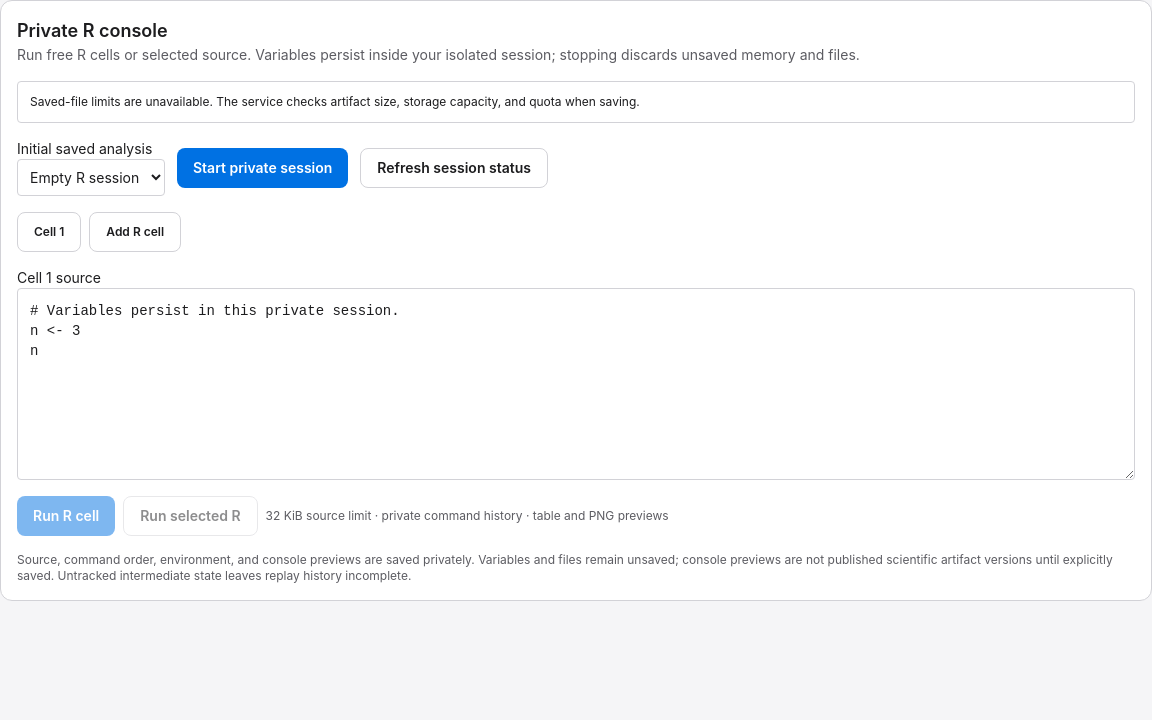
Test: shows pending server saves and clears their progress after changing private workspace scope
The width and height of the screenshot is (1152, 720).
Click the button "Start private session": (263, 168) [177,148,348,188]
(page scrolled)
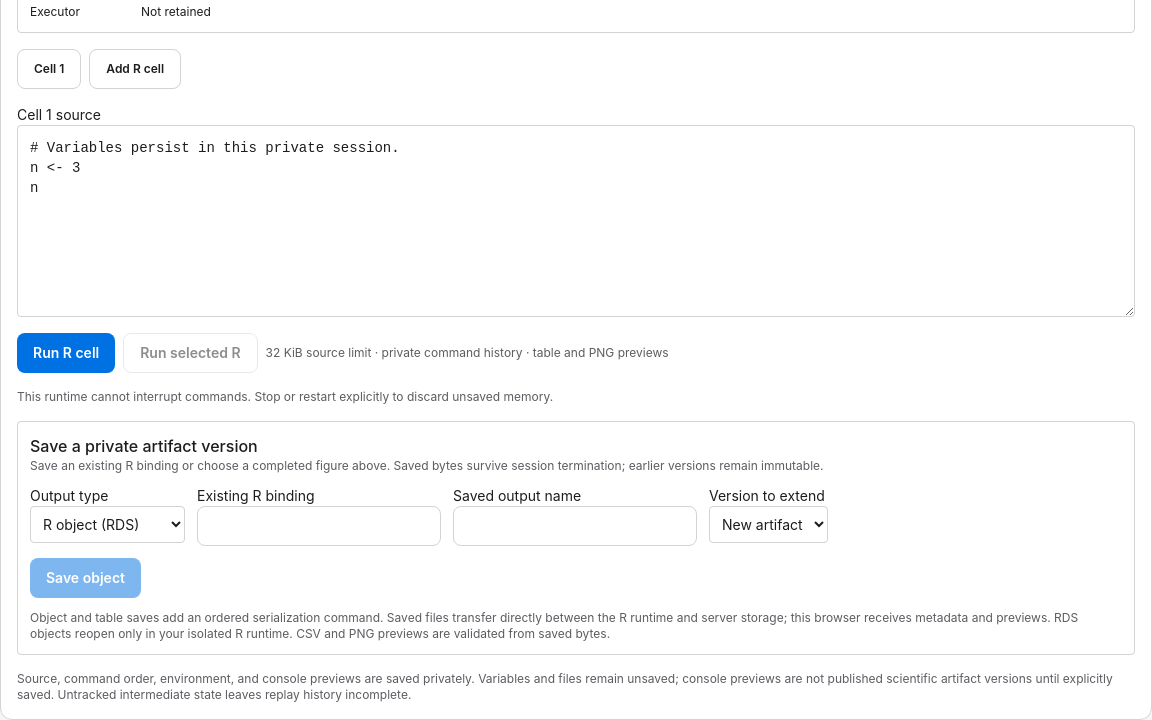
In the field labelled "Existing R binding": (319, 526) [197,506,441,546], type "large_object"
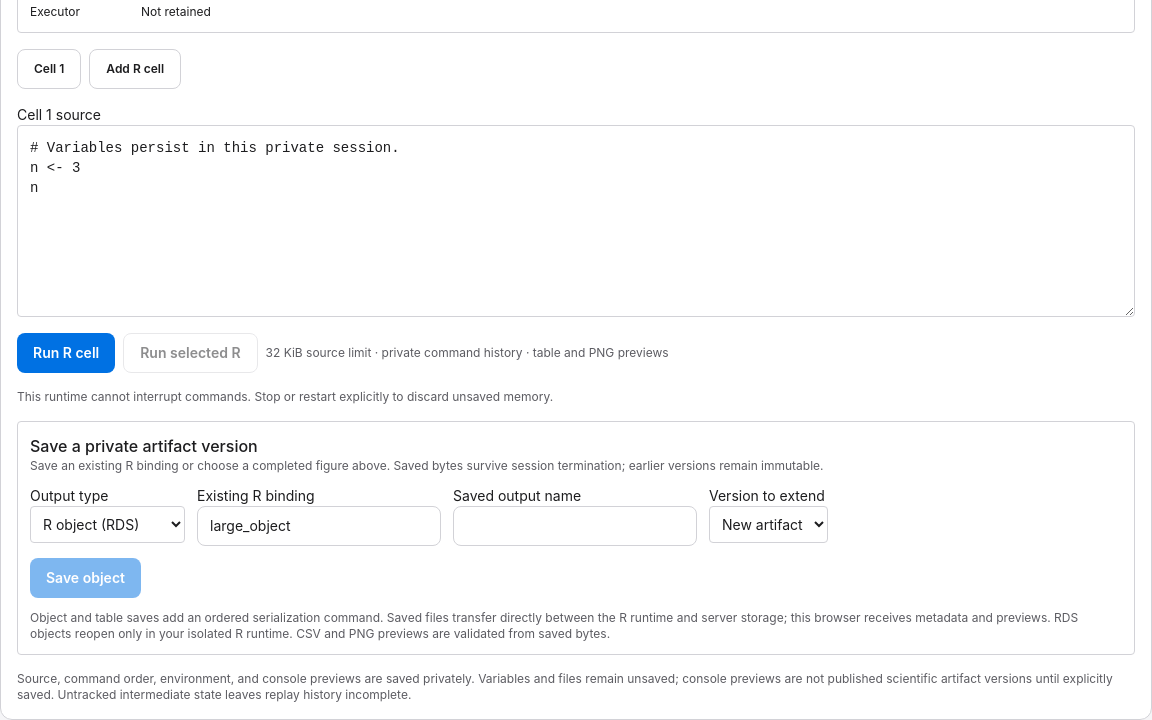
In the field labelled "Saved output name": (575, 526) [453,506,697,546], type "Large saved object"
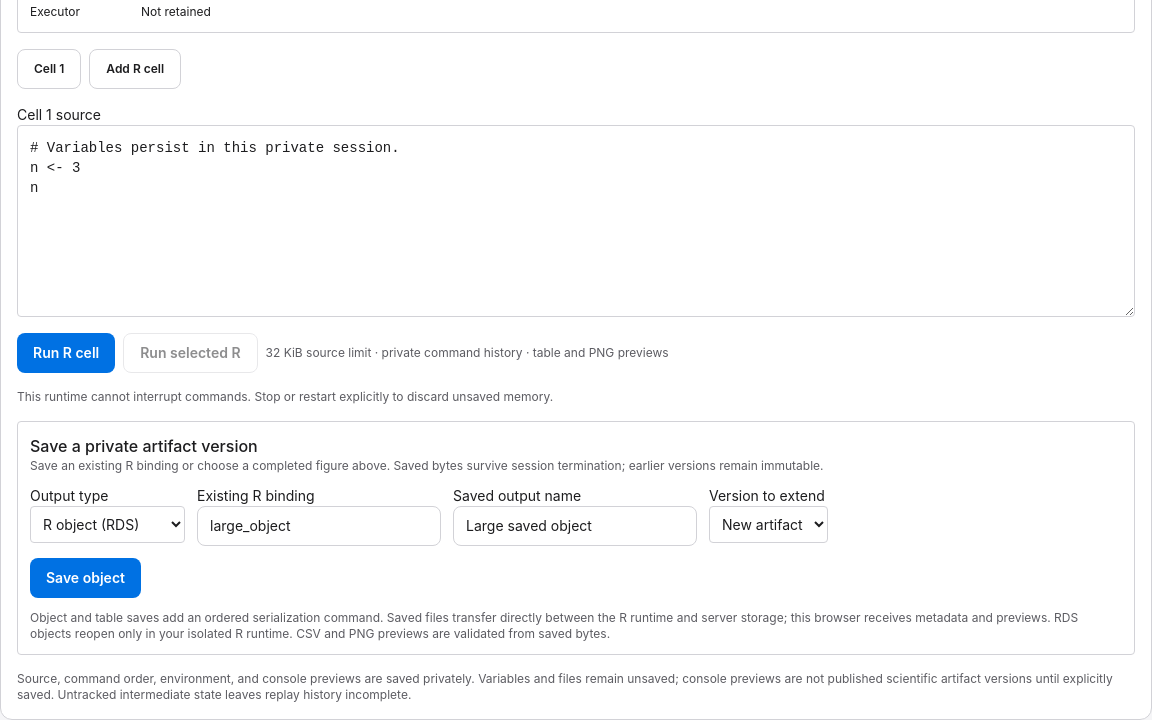
Click the button "Save object": (86, 578) [30,558,141,598]
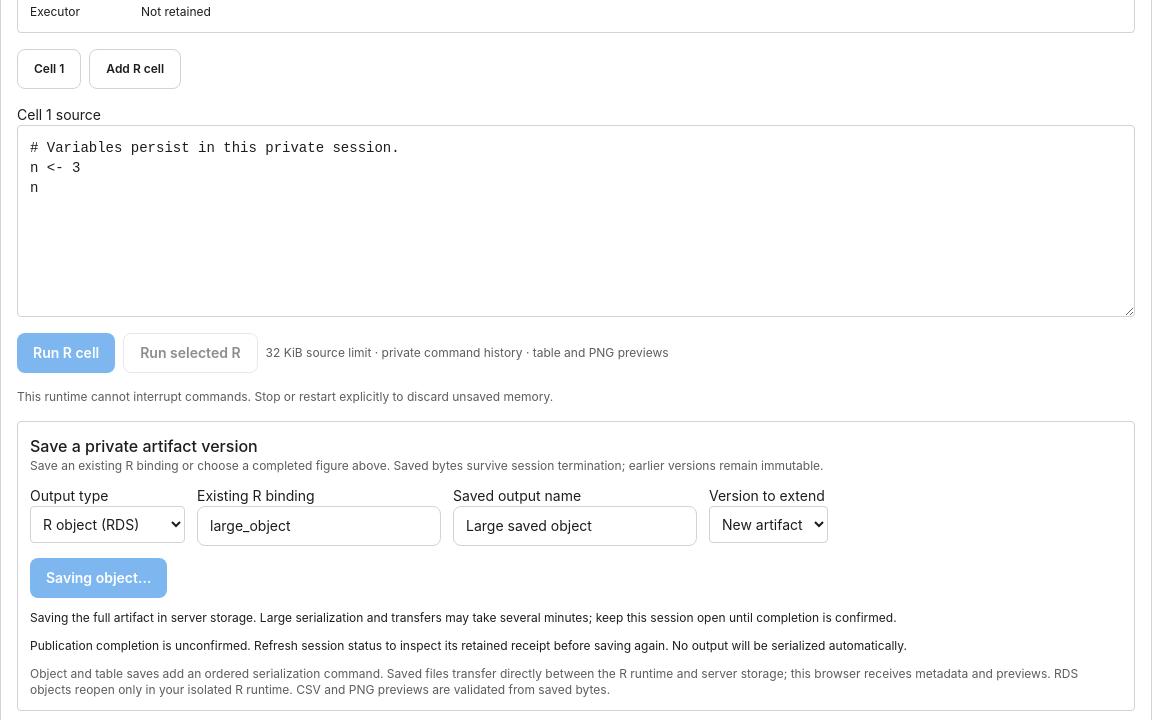
Check: the button "Saving object…" is disabled, box [30,558,167,598]
Check: the text "Saving the full artifact in server storage" is shown, box [30,610,897,625]
